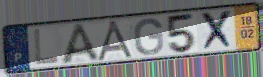5: (165, 11, 198, 55)
A: (59, 21, 103, 66), (95, 19, 138, 63)
G: (133, 17, 165, 57)
L: (32, 28, 61, 67)
X: (200, 8, 236, 53)
